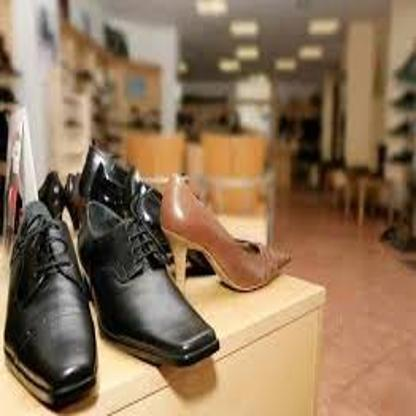not trash: (80, 193, 218, 368), (12, 209, 110, 398), (156, 172, 295, 294)
